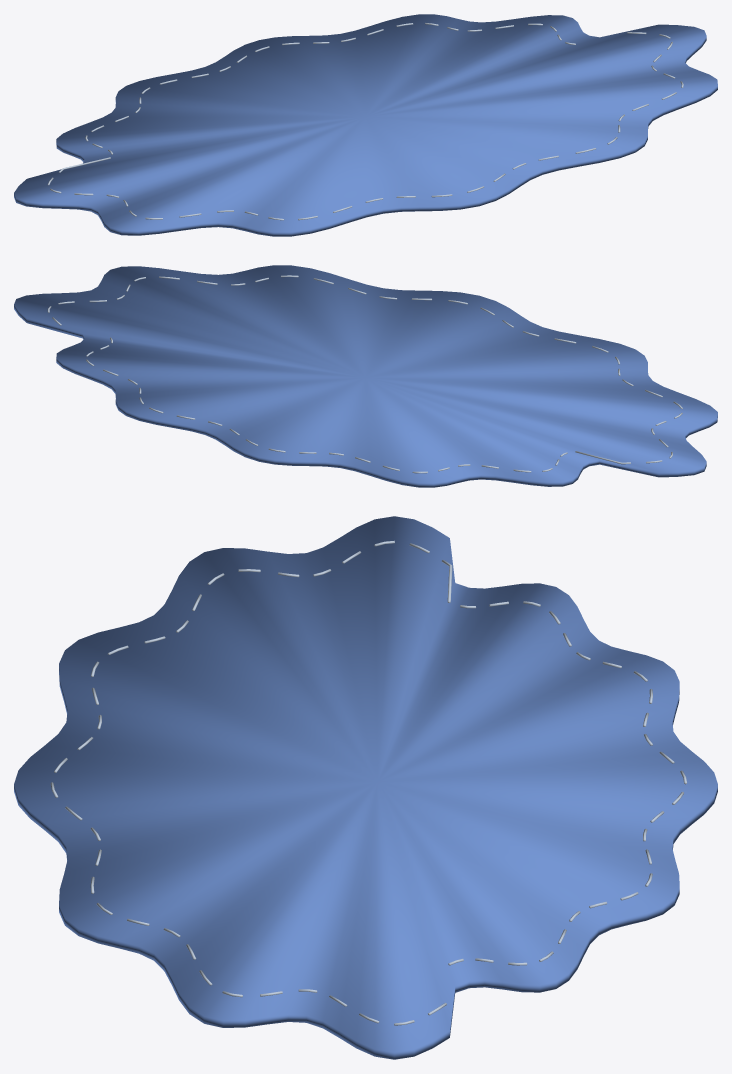
File: W6_CloudRug.fbx
3 renders of one model, top to bottom at view 1: azimuth 30°, elevation 25°; view 2: azimuth 150°, elevation 25°; view 3: azimuth 270°, elevation 25°, orthographic. The views are drawn at different scales.
Parts seen in each view (by area): view 1: W6_CloudRug; view 2: W6_CloudRug; view 3: W6_CloudRug.
Part boxes in pixels (x1,y1,x2,y2): W6_CloudRug: [14, 14, 717, 236]; W6_CloudRug: [14, 265, 717, 487]; W6_CloudRug: [14, 516, 717, 1059].
Size of the model in its own units: 3.08 by 0.032 by 1.71.
